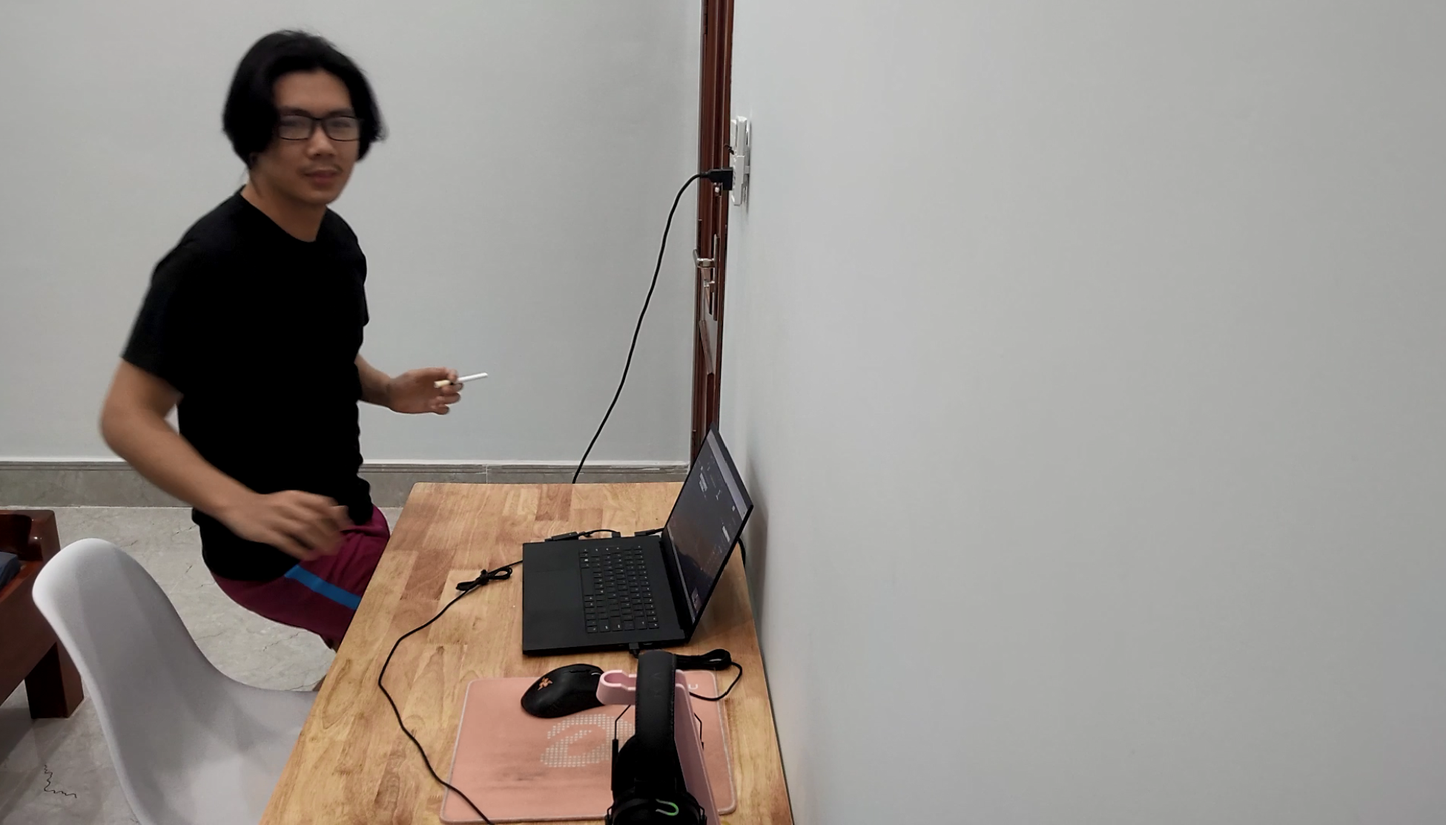cigarette: (436, 363, 491, 398)
person: (110, 1, 471, 614)
